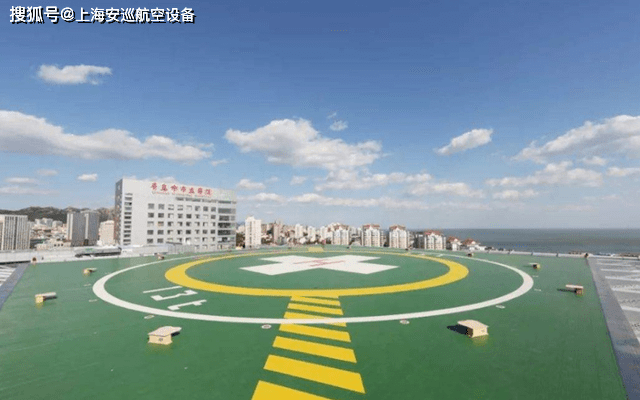H: (294, 259, 344, 268)
